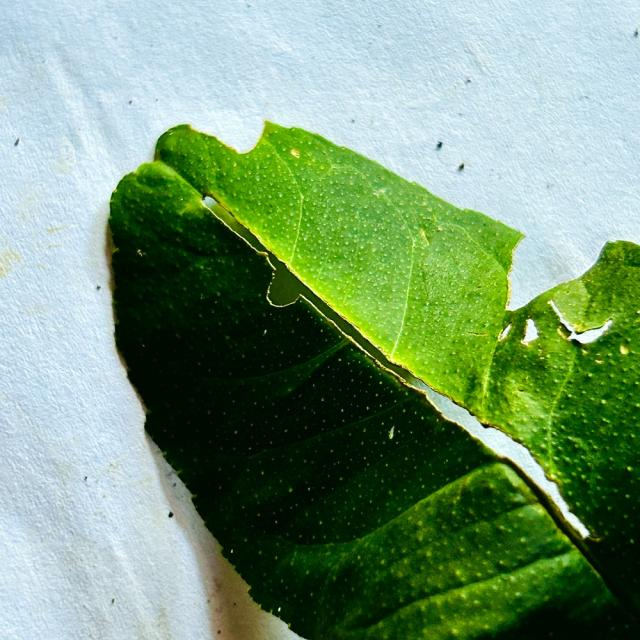Deficiency Leaf: (202, 197, 591, 542), (505, 229, 608, 306), (186, 123, 264, 152)
Lemon: (107, 117, 639, 639)
